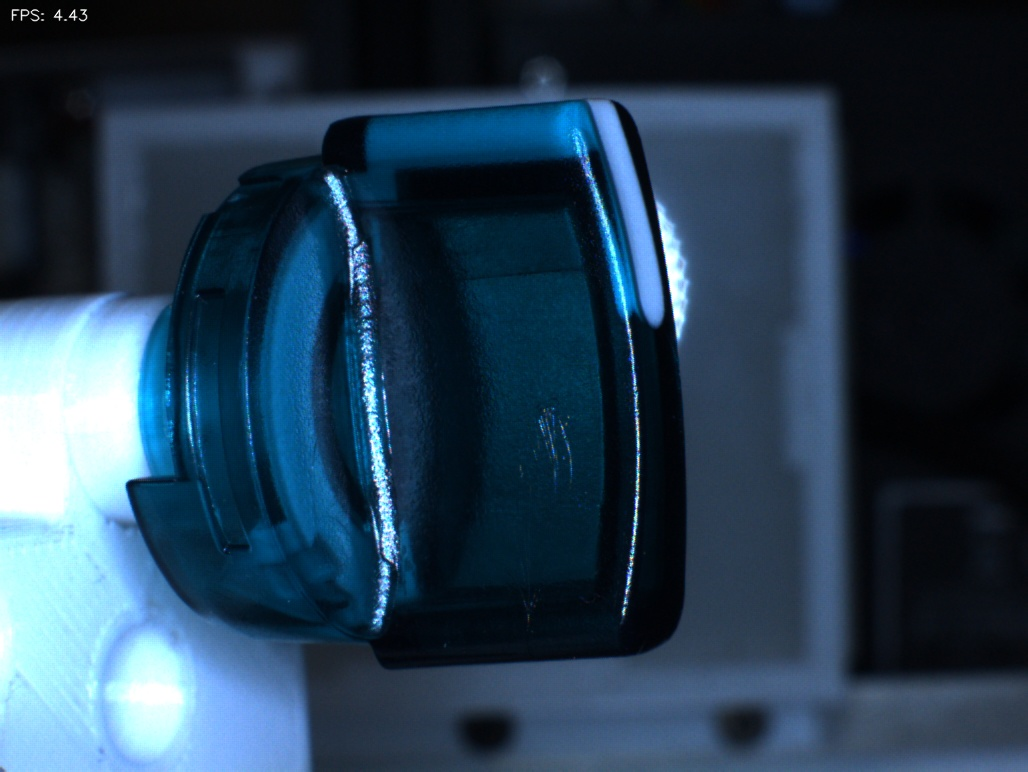Givrage: (483, 386, 588, 639)
